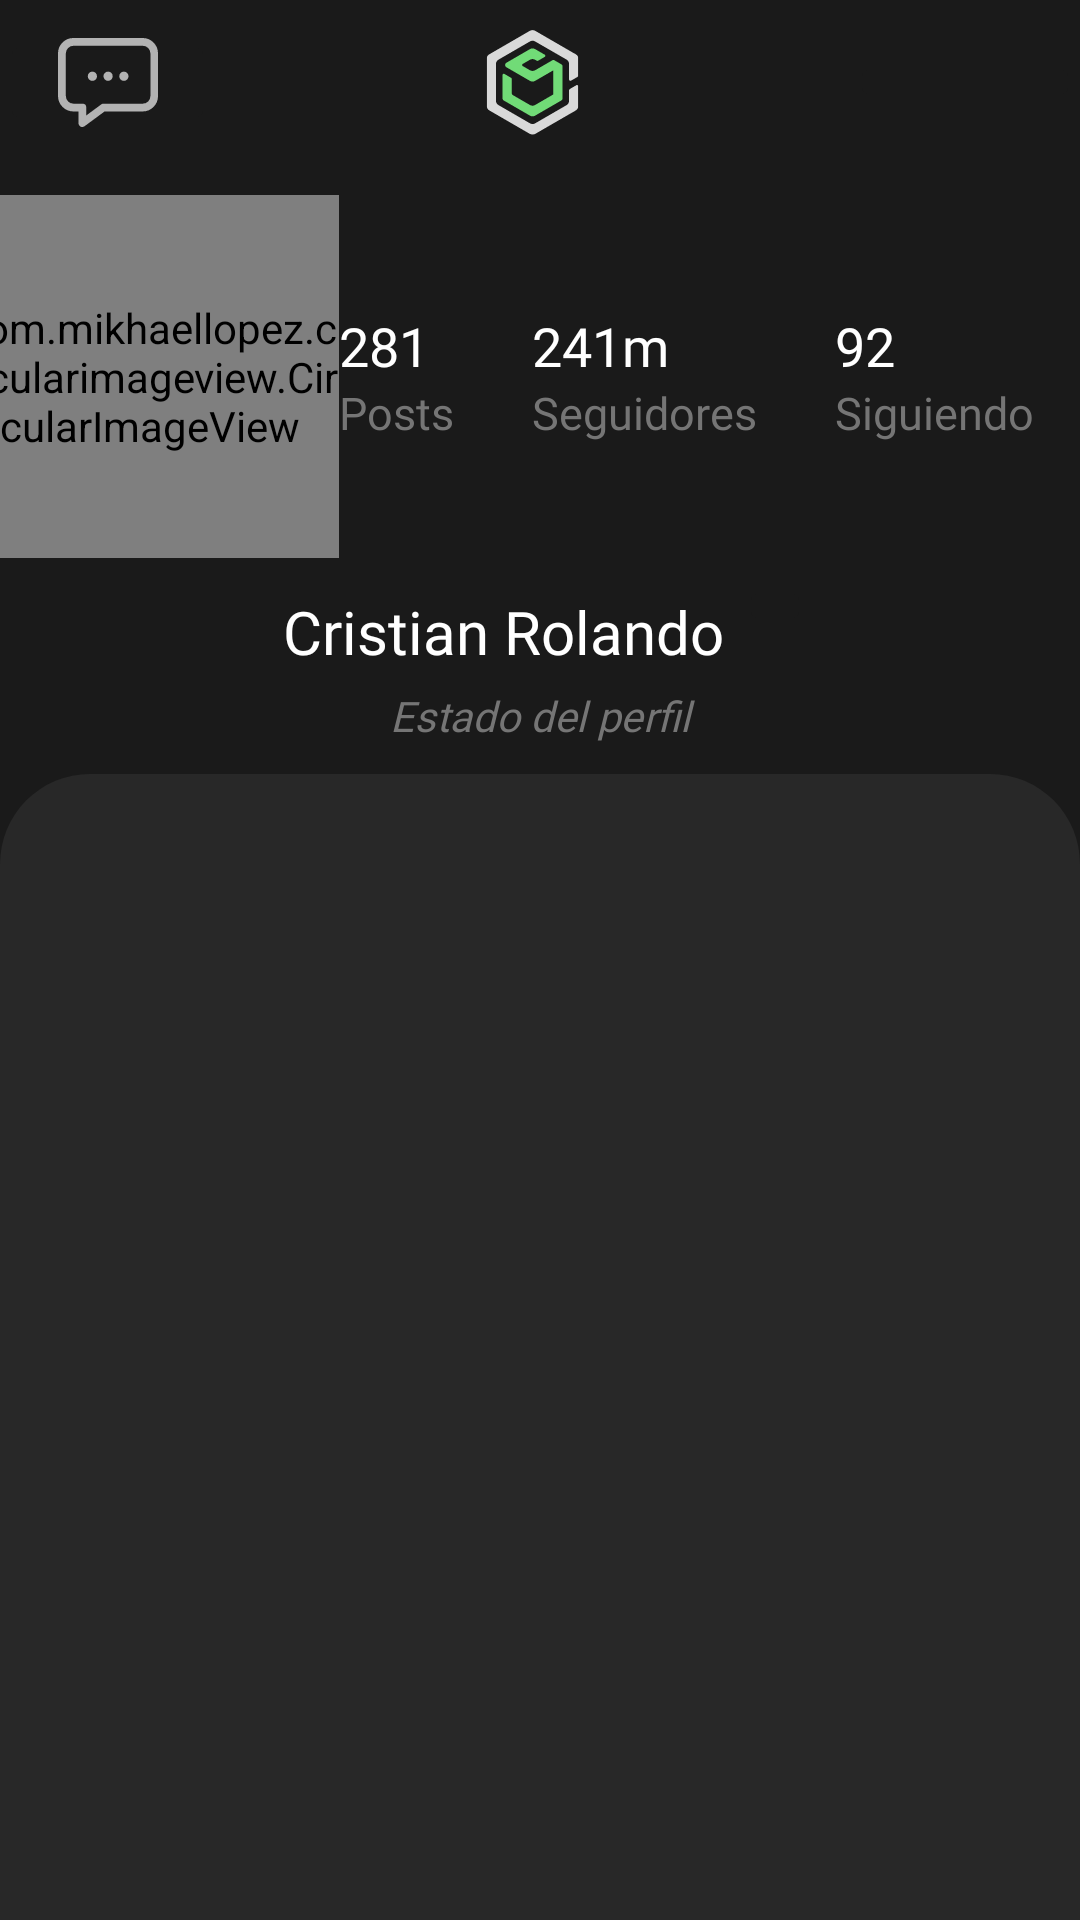

Screen size 1080 × 1920. Icon name, then its box in pixels as [x1,y1,x2,y2]:
message: [58,38,158,127]
